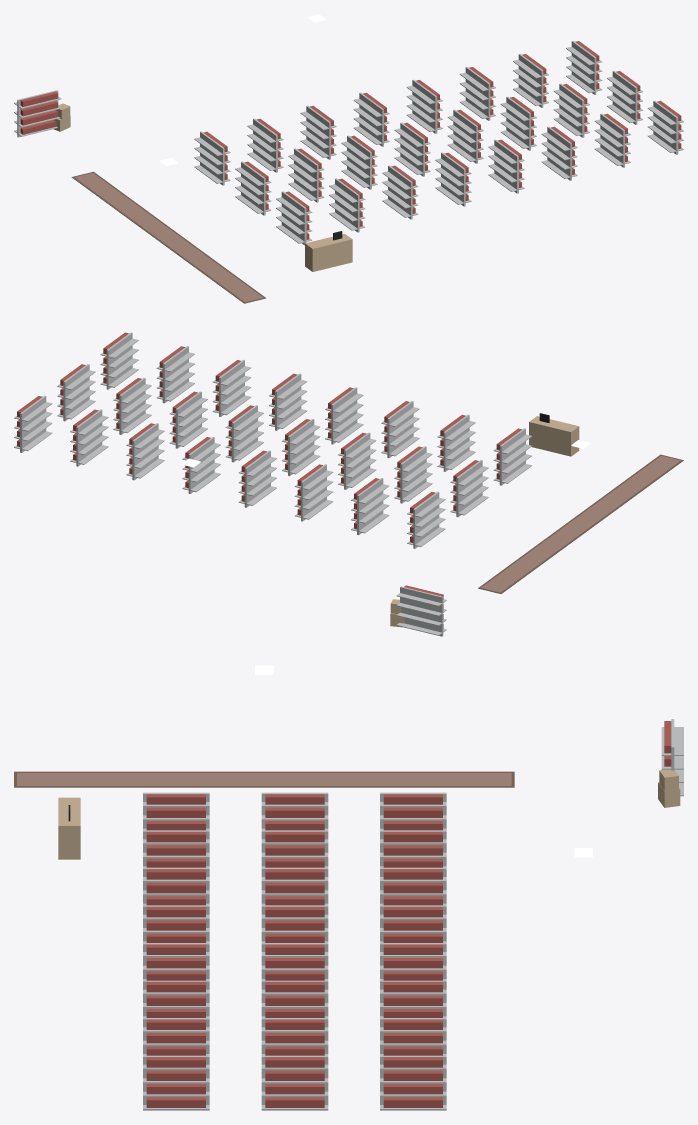
File: fine-s0.glb
The picture shows the model from 3 angles, top to bottom: view 1: azimuth 30°, elevation 25°; view 2: azimuth 150°, elevation 25°; view 3: azimuth 270°, elevation 25°; orthographic projection. The views are drawn at different scales.
Visible parts, largest first — view 1: soft-s0, shelving.000, shop-counter.000, shelf.015, shelf.019, shelf.021, shelf.023, shelf.018, shelf.022, shelf.002, shelf.011, shelf.007 (+15 smaller); view 2: soft-s0, shelving.000, shop-counter.000, shelf.022, shelf.023, shelf.006, shelf.013, shelf.017, shelf.004, shelf.009, shelf.014, shelf.015 (+15 smaller); view 3: soft-s0, shelf.022, shelf.021, shelf.023, shelf.001, shelf.007, shelf.000, shelf.002, shelf.006, shelf.008, shelf.004, shelf.010 (+16 smaller).
Part boxes in pixels (x1=…): soft-s0: x1=71, y1=171, x2=265, y2=303; shelving.000: x1=14, y1=90, x2=61, y2=137; shop-counter.000: x1=305, y1=231, x2=352, y2=271; shelf.015: x1=459, y1=66, x2=495, y2=120; shelf.019: x1=553, y1=83, x2=589, y2=137; shelf.021: x1=566, y1=40, x2=602, y2=94; shelf.023: x1=647, y1=100, x2=683, y2=154; shelf.018: x1=513, y1=53, x2=548, y2=107; shelf.022: x1=607, y1=70, x2=642, y2=124; shelf.002: x1=276, y1=191, x2=312, y2=245; shelf.011: x1=435, y1=152, x2=471, y2=206; shelf.007: x1=341, y1=135, x2=377, y2=189; soft-s0: x1=478, y1=454, x2=683, y2=593; shelving.000: x1=396, y1=585, x2=446, y2=636; shop-counter.000: x1=529, y1=413, x2=579, y2=456; shelf.022: x1=57, y1=364, x2=95, y2=421; shelf.023: x1=100, y1=332, x2=138, y2=389; shelf.006: x1=294, y1=464, x2=333, y2=521; shelf.013: x1=225, y1=405, x2=263, y2=462; shelf.017: x1=212, y1=359, x2=251, y2=416; shelf.004: x1=394, y1=446, x2=432, y2=503; shelf.009: x1=238, y1=450, x2=276, y2=507; shelf.014: x1=269, y1=373, x2=307, y2=430; shelf.015: x1=126, y1=423, x2=164, y2=480; soft-s0: x1=14, y1=771, x2=514, y2=787; shelf.022: x1=261, y1=1055, x2=328, y2=1110; shelf.021: x1=380, y1=1055, x2=446, y2=1110; shelf.023: x1=143, y1=1055, x2=209, y2=1110; shelf.001: x1=261, y1=792, x2=328, y2=830; shelf.007: x1=261, y1=867, x2=328, y2=905; shelf.000: x1=380, y1=792, x2=446, y2=830; shelf.002: x1=143, y1=792, x2=209, y2=830; shelf.006: x1=380, y1=867, x2=446, y2=905; shelf.008: x1=143, y1=867, x2=209, y2=905; shelf.004: x1=261, y1=830, x2=328, y2=867; shelf.010: x1=261, y1=905, x2=328, y2=942.
Bounding box in the file's own units: 21.88 × 3.3 × 18.09.
